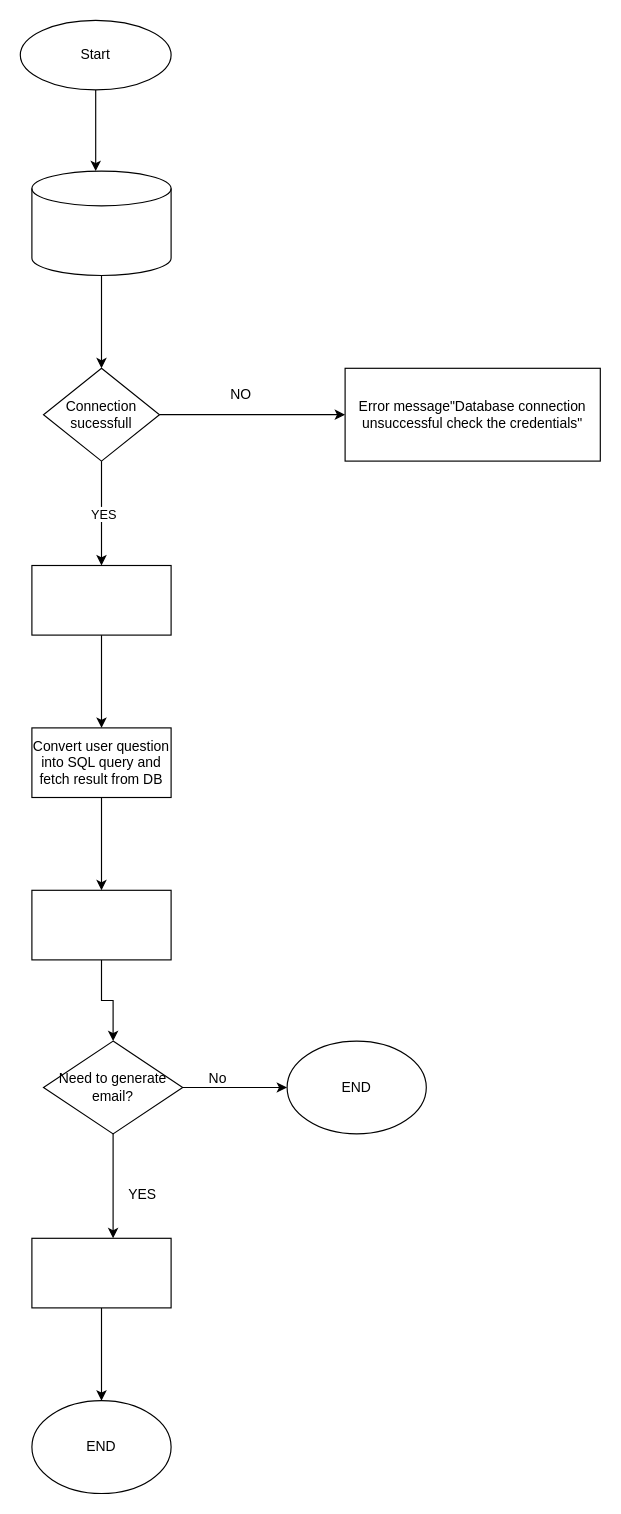
Image size: 621x1514. Some labels were removed from this diagram. Here are the shapes that lost their labels. From the top down, the centre of each, then its label:
At (101,223): "Connect to Mysql databse".
At (101,599): "Create Langchain SQL agent".
At (101,924): "Display the result to user".
At (101,1272): "Generate Email template based on user selection".
